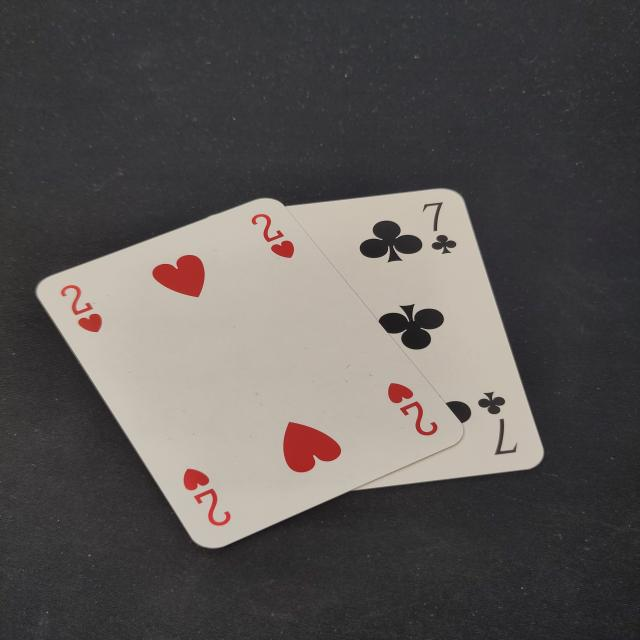2h: (174, 459, 239, 536), (380, 377, 448, 443), (241, 209, 308, 267), (53, 280, 113, 338)
7c: (475, 382, 523, 467), (416, 196, 462, 261)
